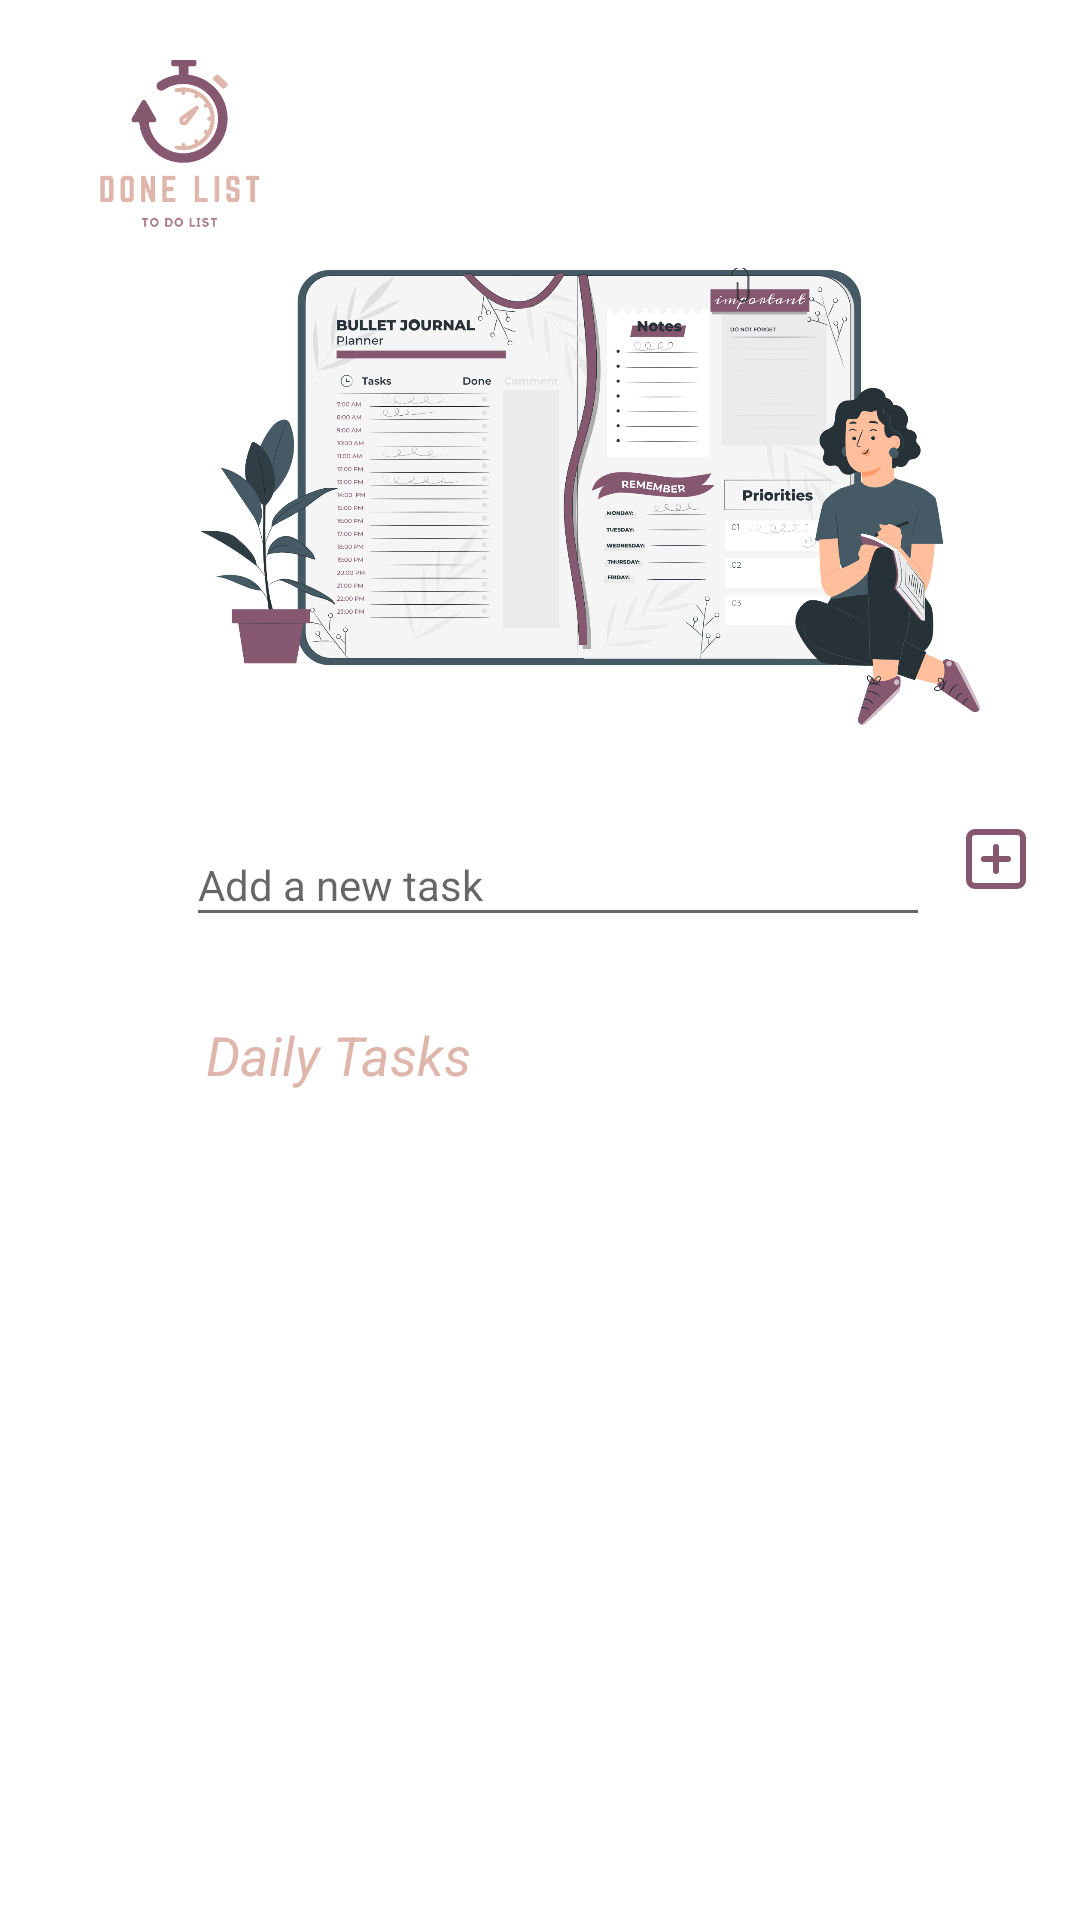

Named icons in this screenshot (1080x1920) and their bounding boxes, bbox(x1, y1, x2, y2):
plussquare: bbox(966, 829, 1026, 889)
